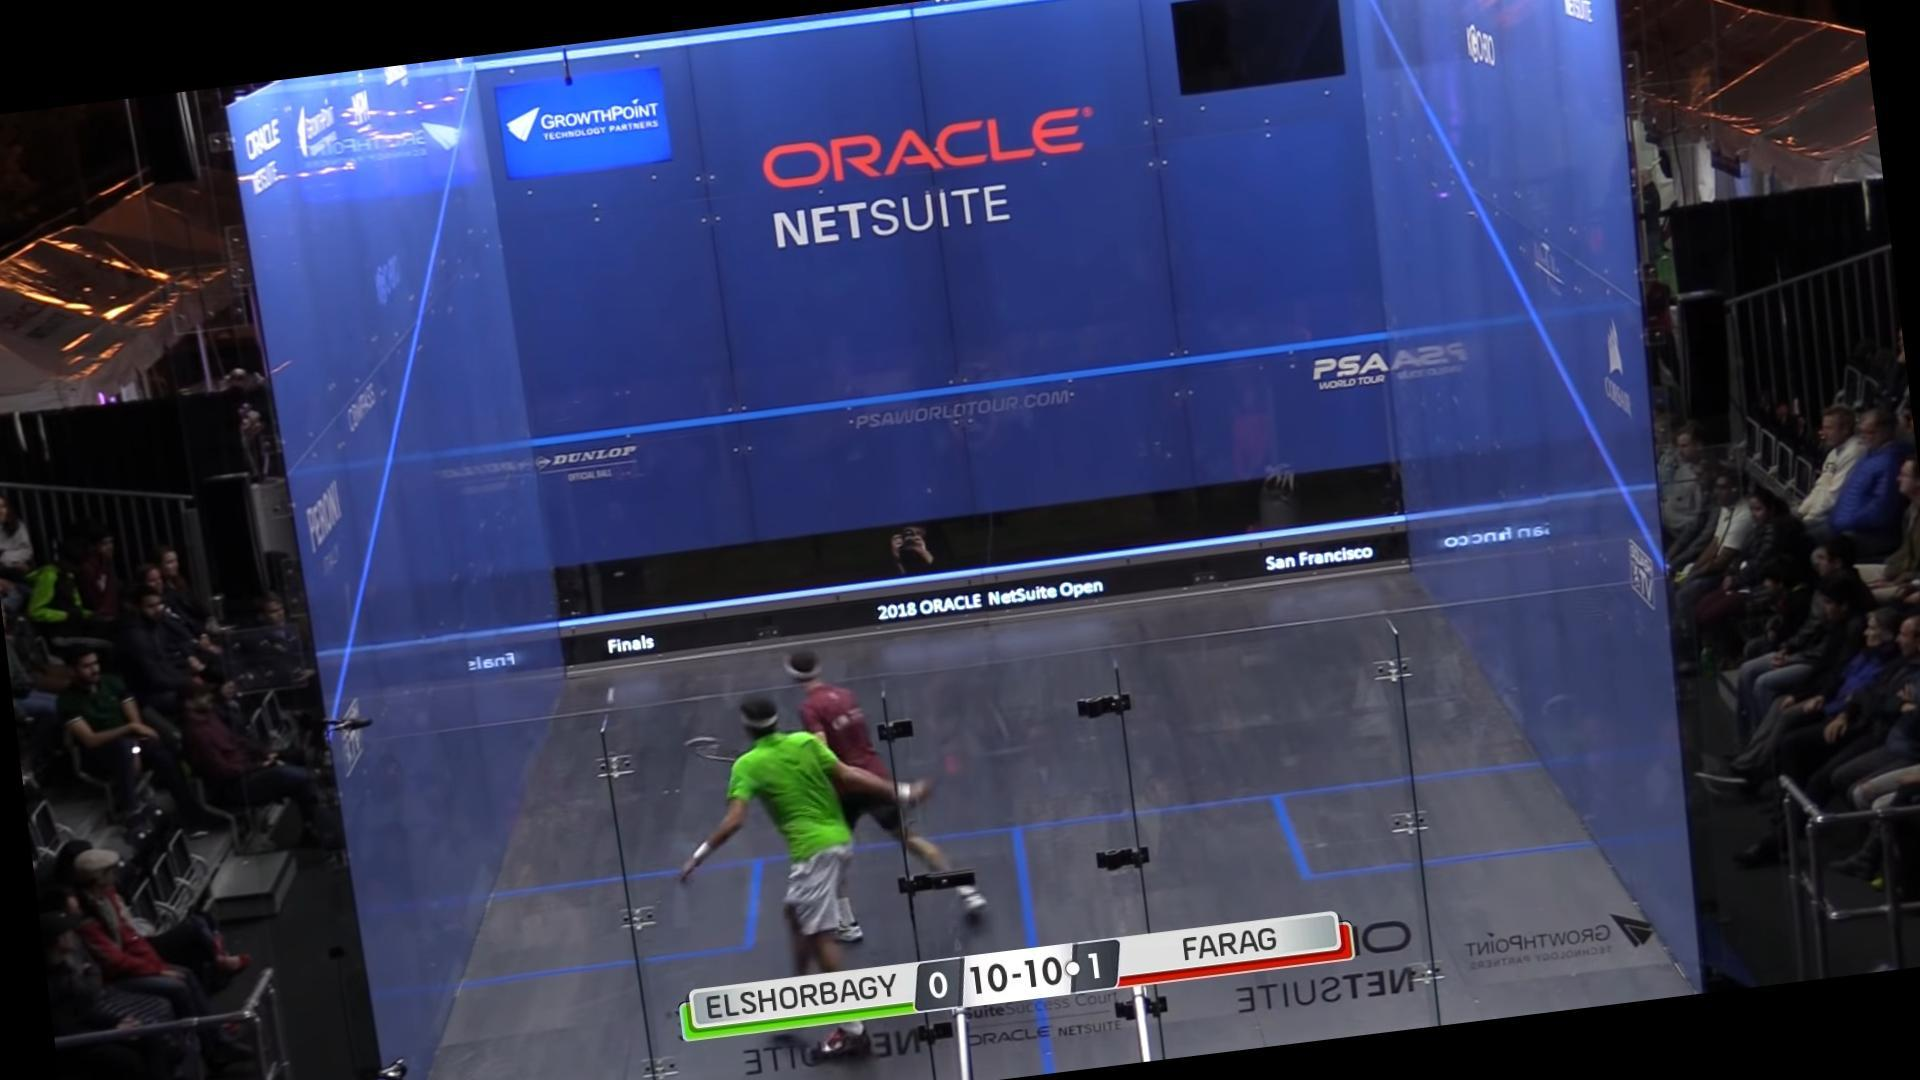Squash-Ball: (599, 682, 622, 708)
